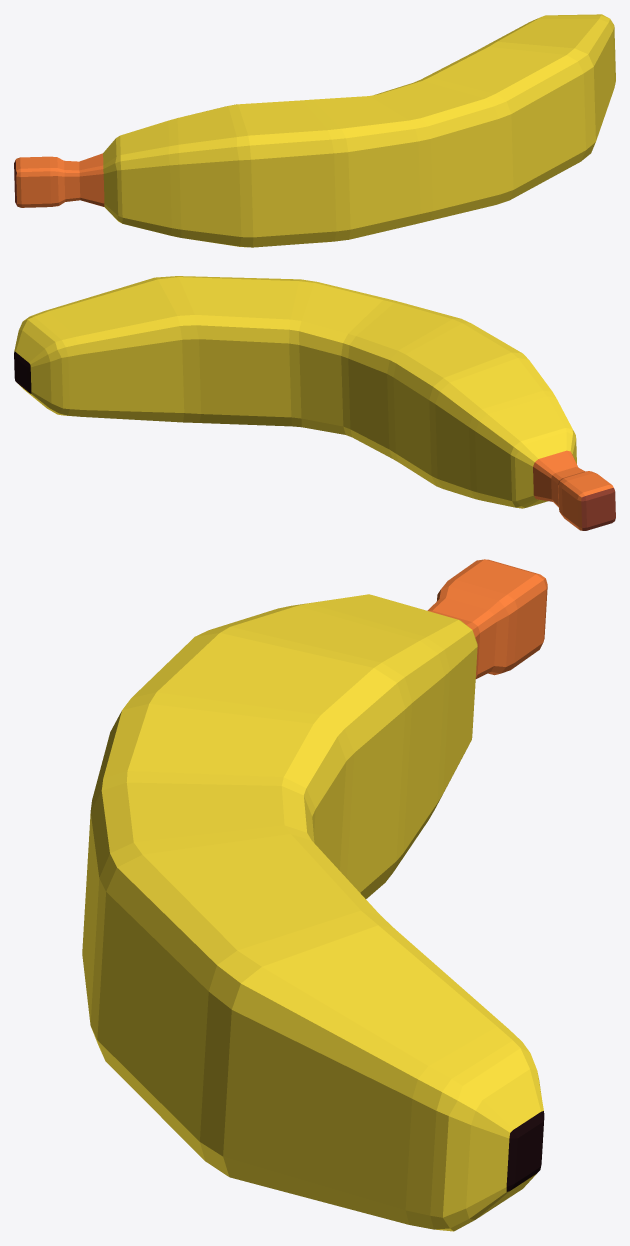
File: BananaB.fbx
3 renders of one model, top to bottom at view 1: azimuth 30°, elevation 25°; view 2: azimuth 150°, elevation 25°; view 3: azimuth 270°, elevation 25°, orthographic. The views are drawn at different scales.
Parts seen in each view (by area): view 1: Bannana; view 2: Bannana; view 3: Bannana.
Boxes of the visible parts, bbox=[...] form: Bannana: bbox=[14, 14, 615, 247]; Bannana: bbox=[14, 276, 615, 530]; Bannana: bbox=[82, 559, 547, 1231].
Bounding box in the file's own units: 81.6 × 15.16 × 27.87.
